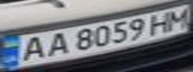0: (90, 23, 115, 48)
5: (109, 19, 133, 44)
8: (72, 26, 96, 52)
9: (124, 16, 151, 40)
A: (12, 34, 51, 64), (39, 30, 72, 59)
H: (145, 10, 178, 35)
M: (163, 7, 193, 30)
